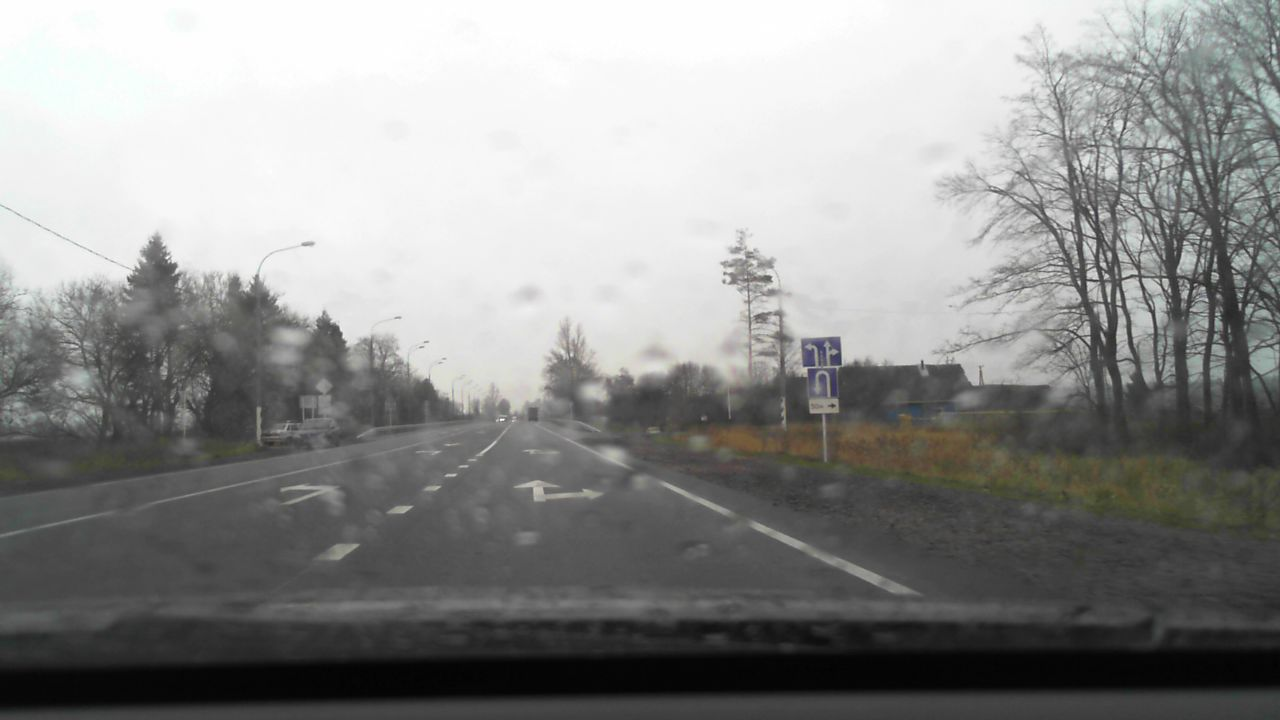U-turn: (808, 368, 839, 398)
